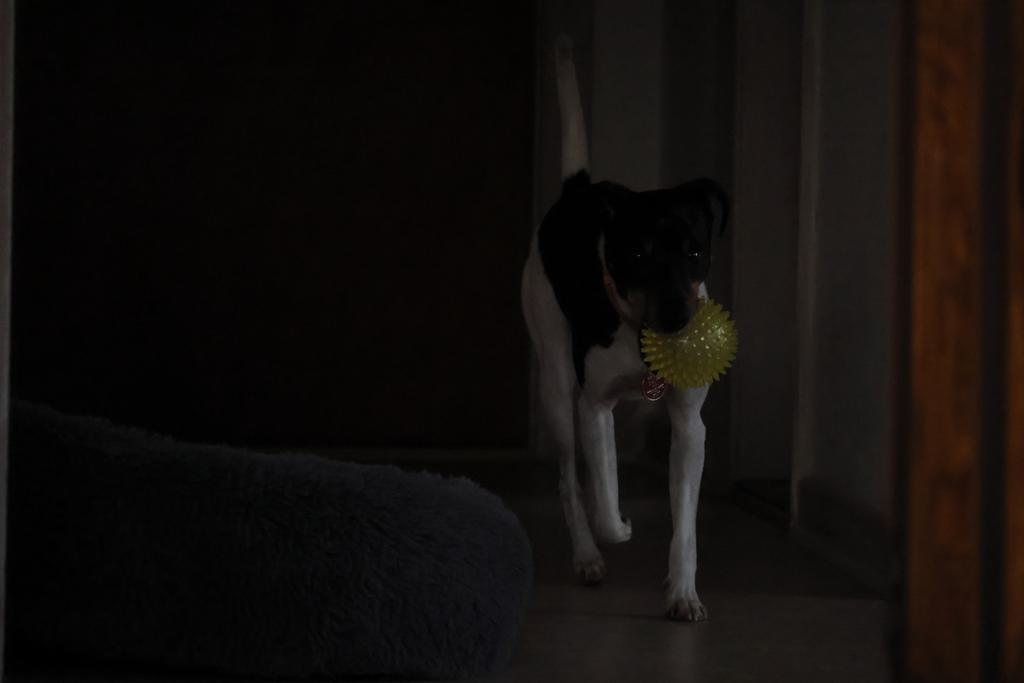Dog: (503, 50, 755, 637)
